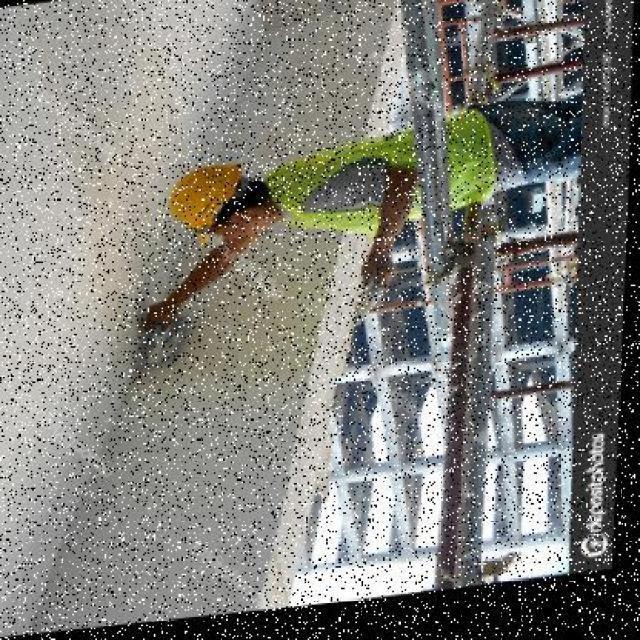helmet: (165, 162, 256, 257)
vest: (276, 114, 497, 244)
